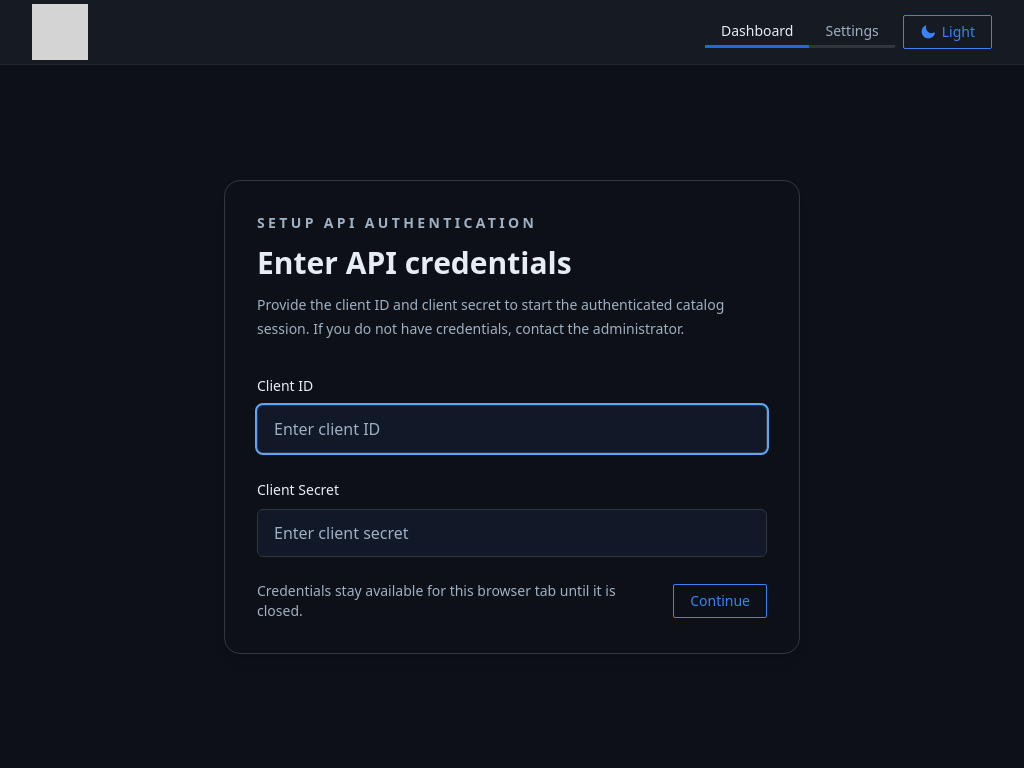
Backend with auth (SERVER_AVAILABLE, server + token URL) › keeps the prompt and shows an error when credential validation fails
Expected: the heading "Enter API credentials" is shown, [257, 242, 572, 283]
Type "bad-client" into the field labelled "Client ID". click: (512, 429)
box: [257, 405, 767, 453]
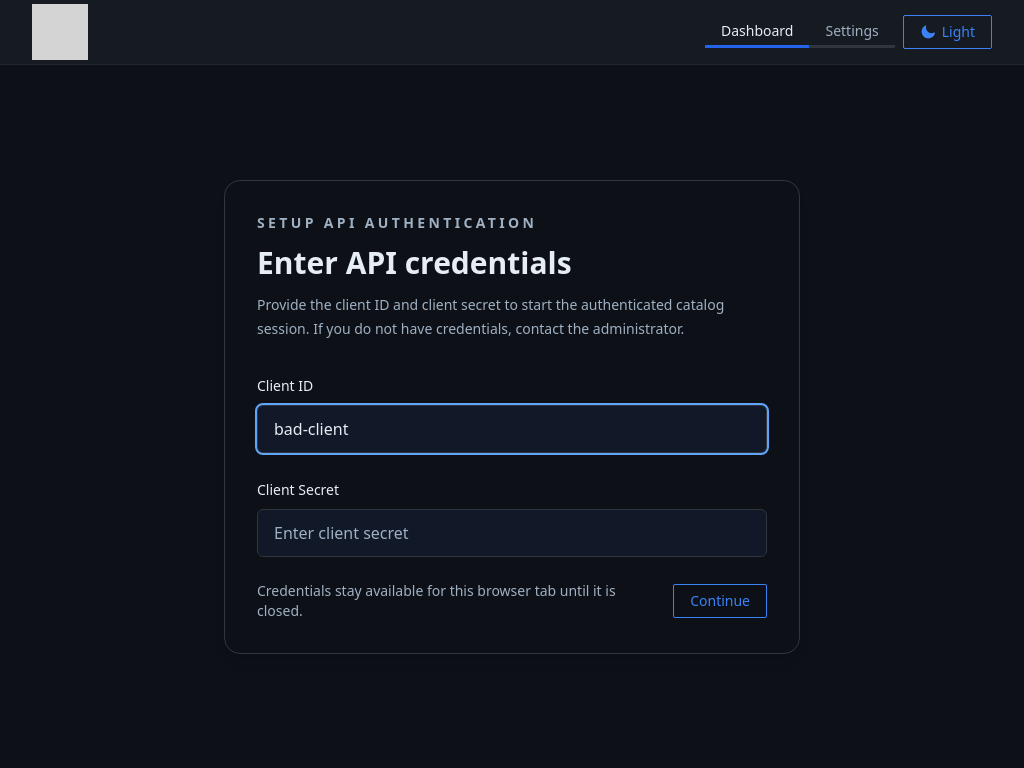
Type "bad-secret" into the password field labelled "Client Secret". click: (512, 533)
box: [257, 509, 767, 557]
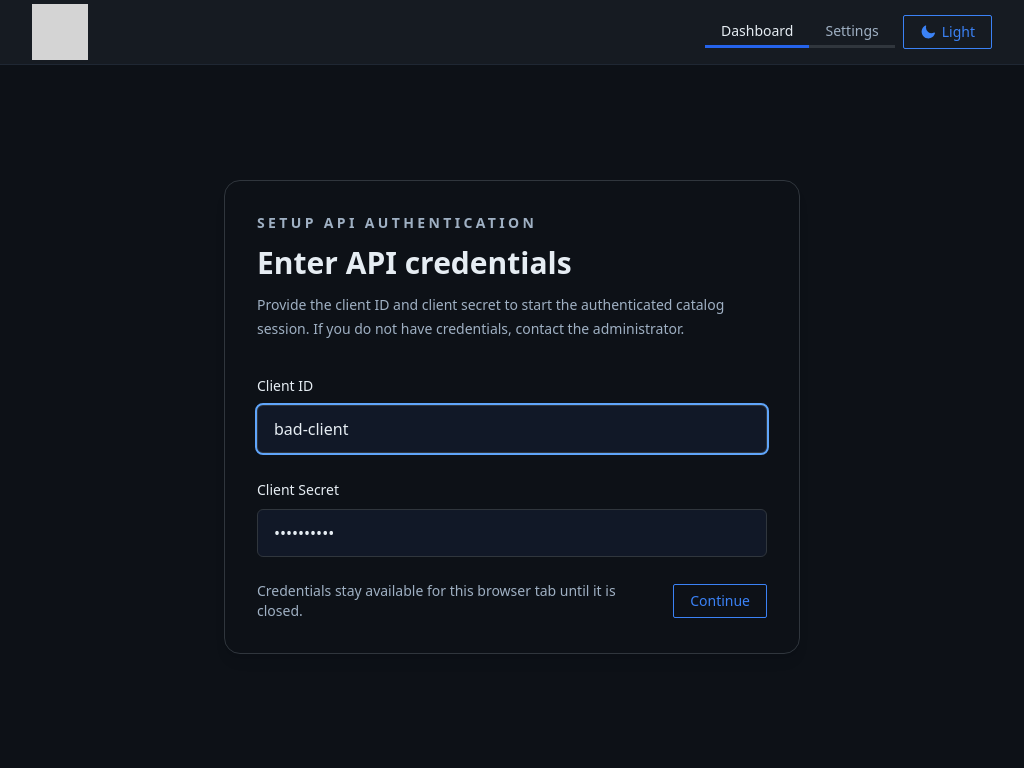
Click the button "Continue". click: (720, 601)
box: [673, 584, 767, 618]
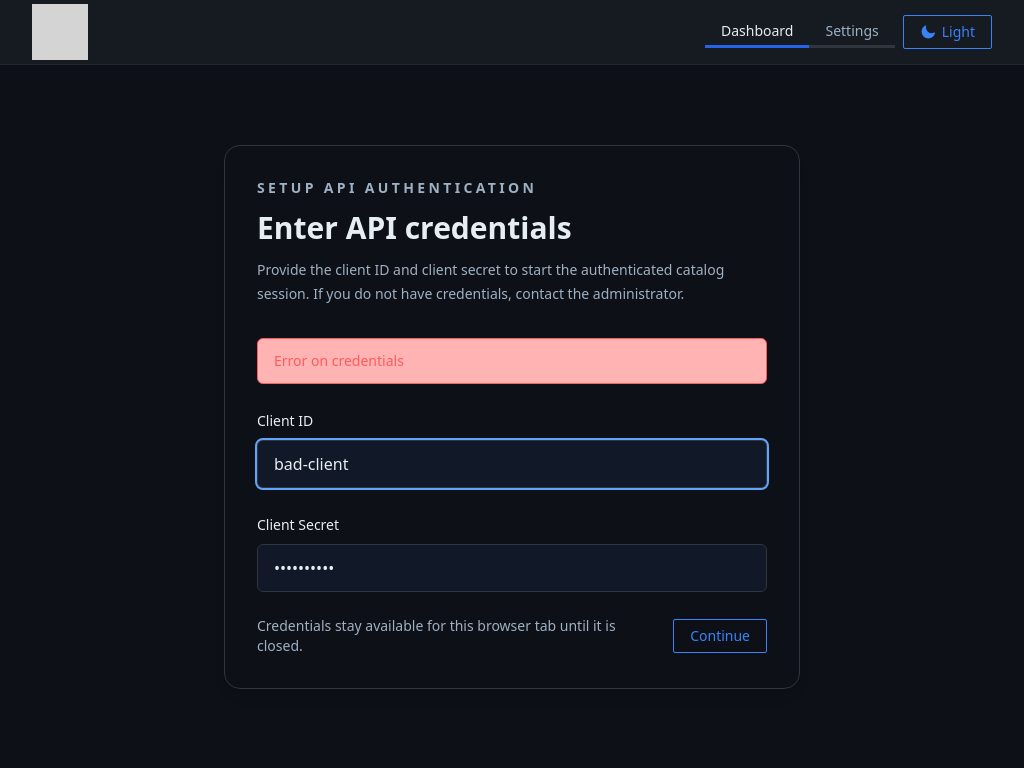
Expected: the heading "Enter API credentials" is shown, [257, 207, 572, 248]
Result: the text "Error on credentials" is shown at [274, 351, 404, 370]
